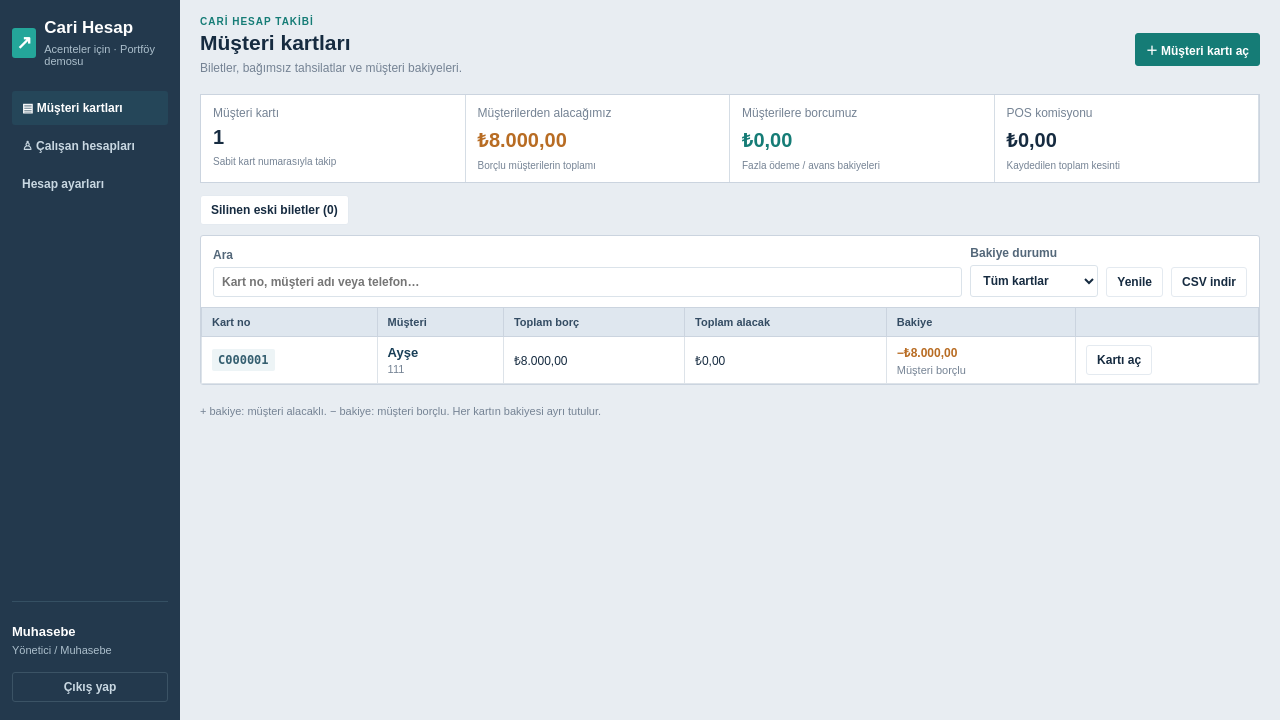
Test: independent POS payment deducts fee and permits a positive customer balance
Click the button "Kartı aç".
click(1119, 360)  # box [1086, 345, 1152, 375]
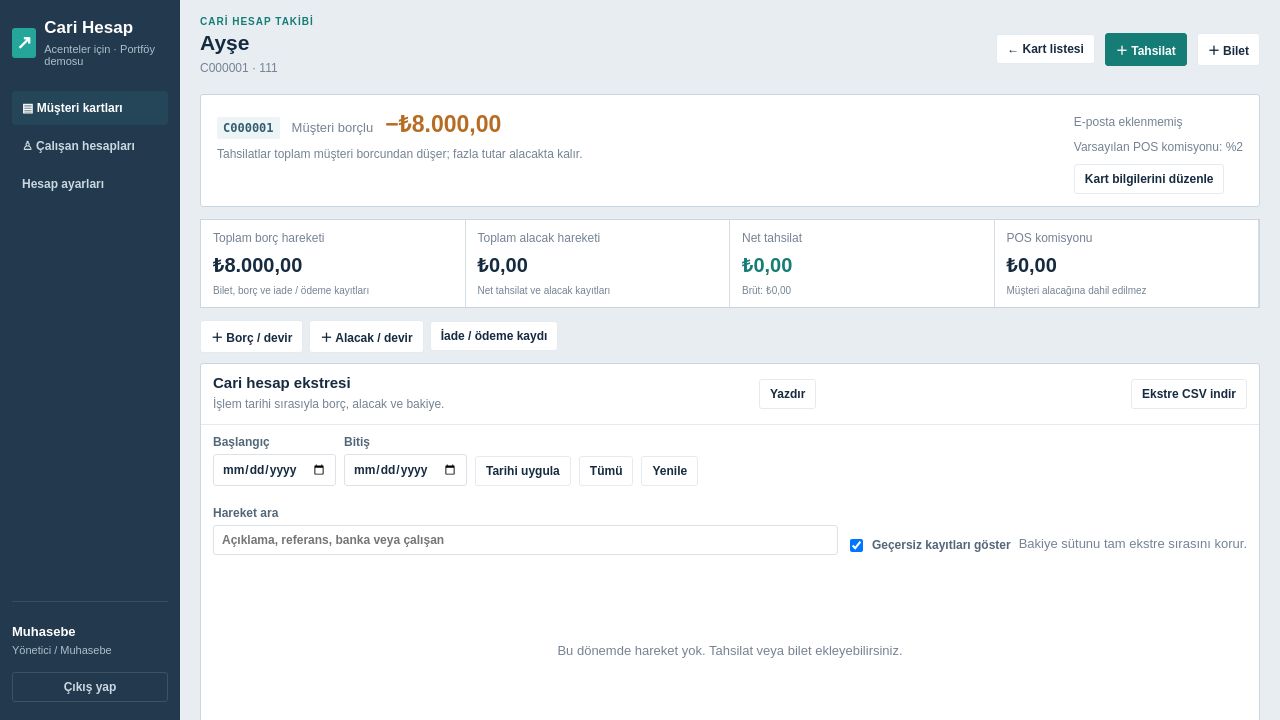
Click the button "＋ Tahsilat".
click(1146, 49)  # box [1105, 33, 1187, 66]
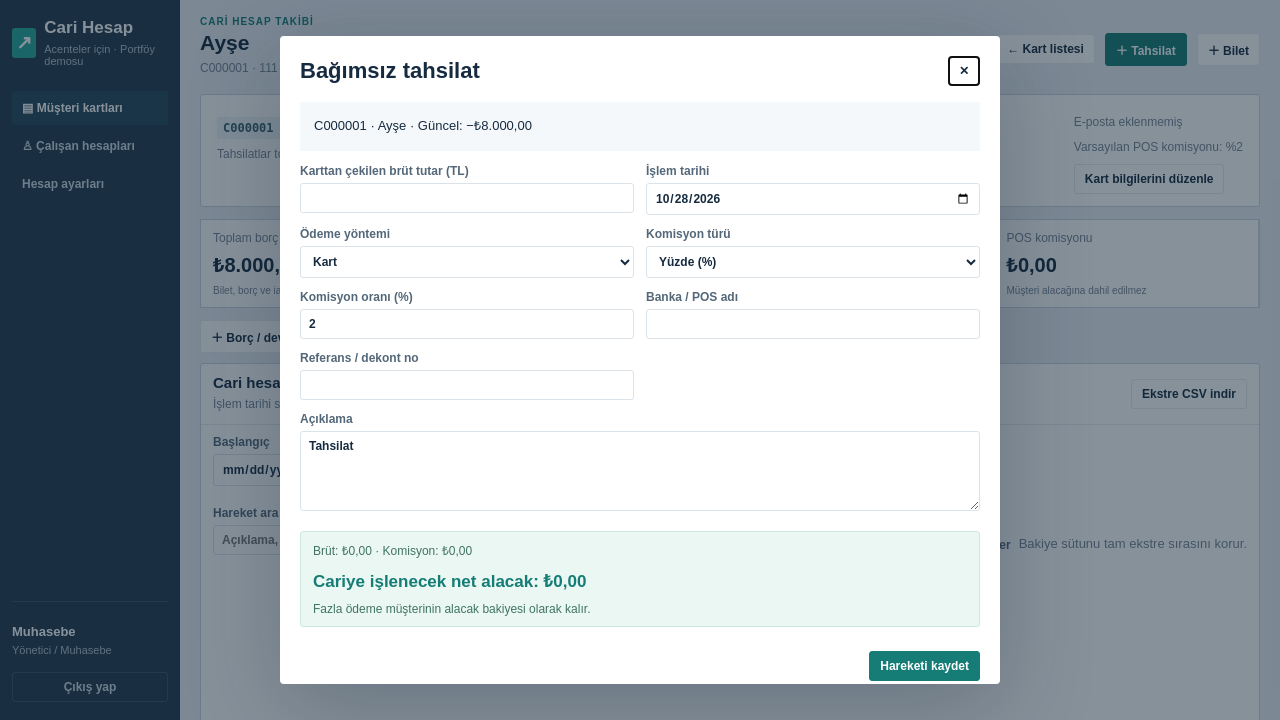
Type "10000" into the number field labelled "Karttan çekilen brüt tutar (TL)".
click(467, 198); type("10000")  # box [300, 183, 634, 213]
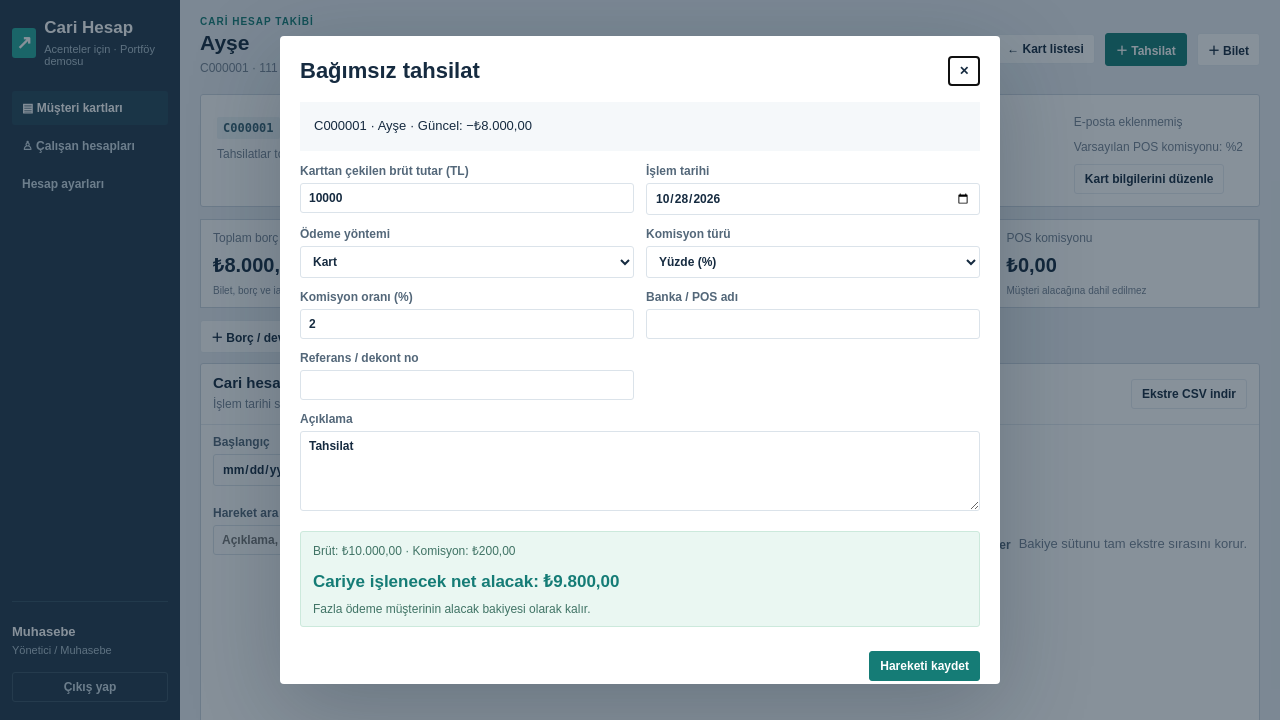
Result: the text "Cariye işlenecek net alacak: ₺9.800,00" is shown at [313, 572, 620, 591]
Click the button "Hareketi kaydet".
click(925, 666)  # box [869, 651, 980, 681]
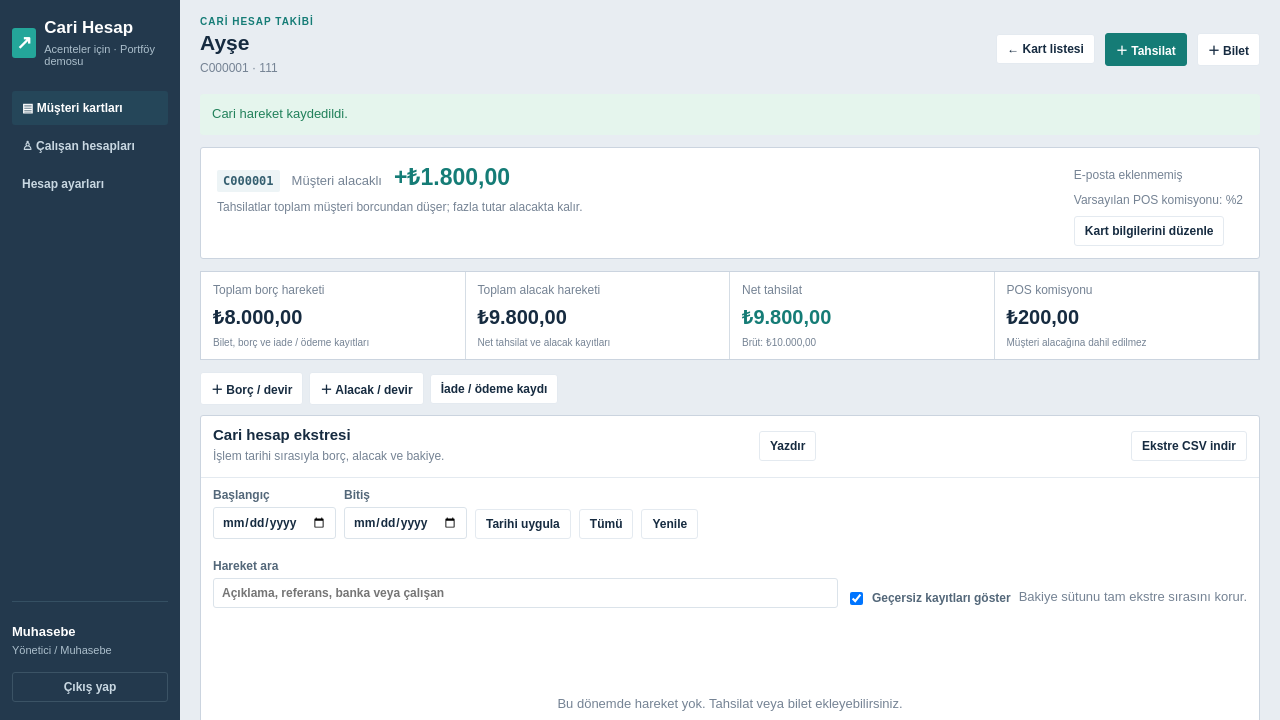
Result: the heading "Müşteri alacaklı" is shown at [292, 173, 382, 188]
Result: the text "+₺1.800,00" is shown at [394, 164, 510, 190]
